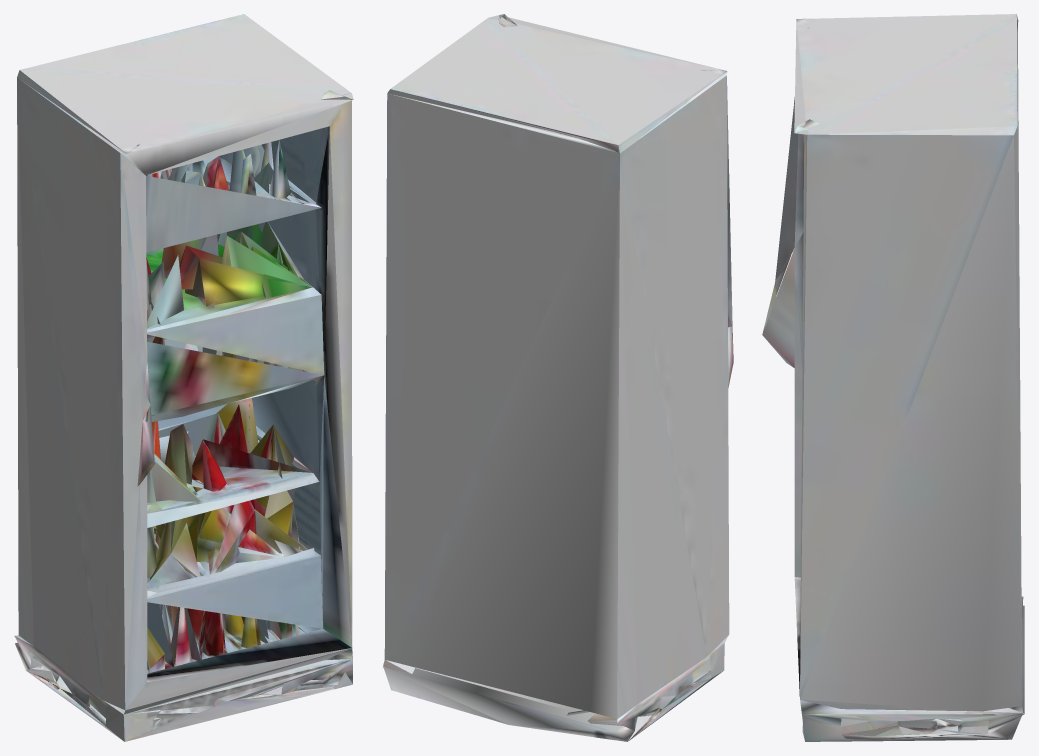
File: fv_fridge.lod1.glb
3 renders of one model, left to right at view 1: azimuth 30°, elevation 25°; view 2: azimuth 150°, elevation 25°; view 3: azimuth 270°, elevation 25°, orthographic. The views are drawn at different scales.
Visible parts, largest first — view 1: fv_fridge; view 2: fv_fridge; view 3: fv_fridge.
Boxes of the visible parts, bbox=[...] form: fv_fridge: bbox=[14, 14, 353, 741]; fv_fridge: bbox=[382, 14, 733, 741]; fv_fridge: bbox=[762, 14, 1024, 741].
Bounding box in the file's own units: 0.8068 × 2 × 0.7627.
1 material, 1 textured.
